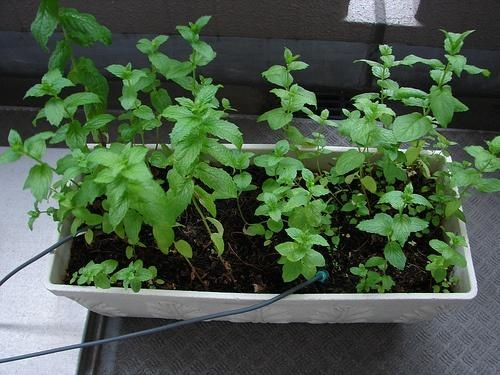pottedplant: (10, 2, 500, 330)
